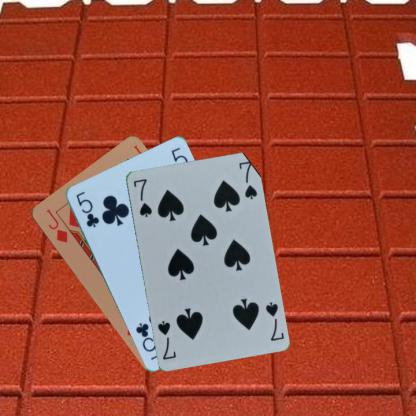5c: (73, 188, 100, 229)
7s: (262, 299, 285, 342), (131, 176, 153, 218)
Jd: (43, 206, 69, 244)
